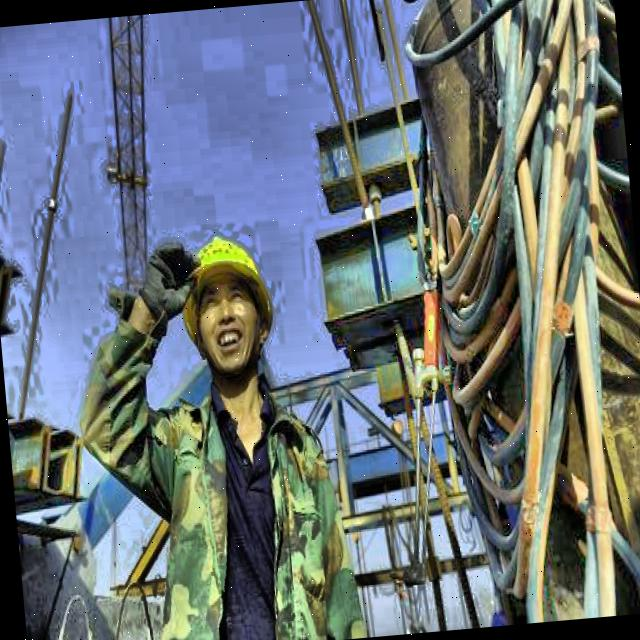helmet: (176, 216, 289, 400)
